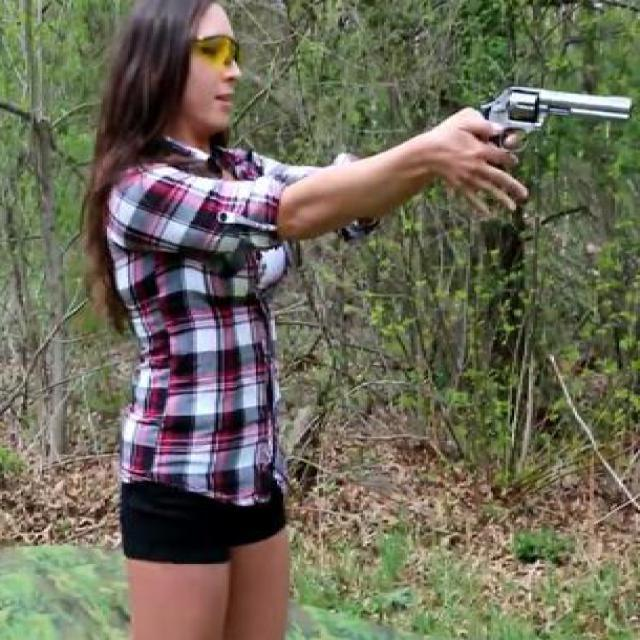Gun: (449, 83, 638, 177)
